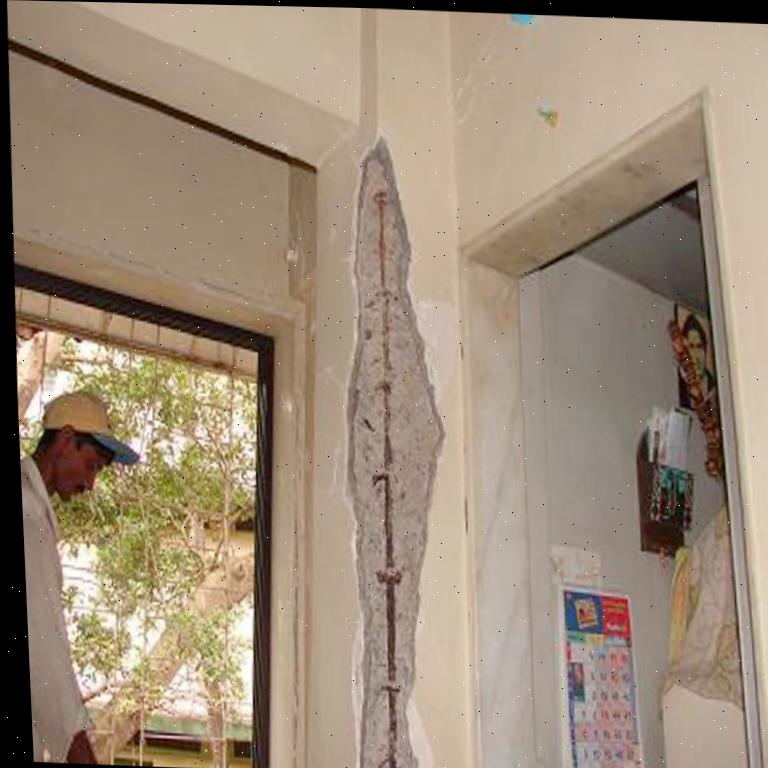exposed_rebar: (373, 191, 402, 768)
spalling: (347, 140, 444, 768)
